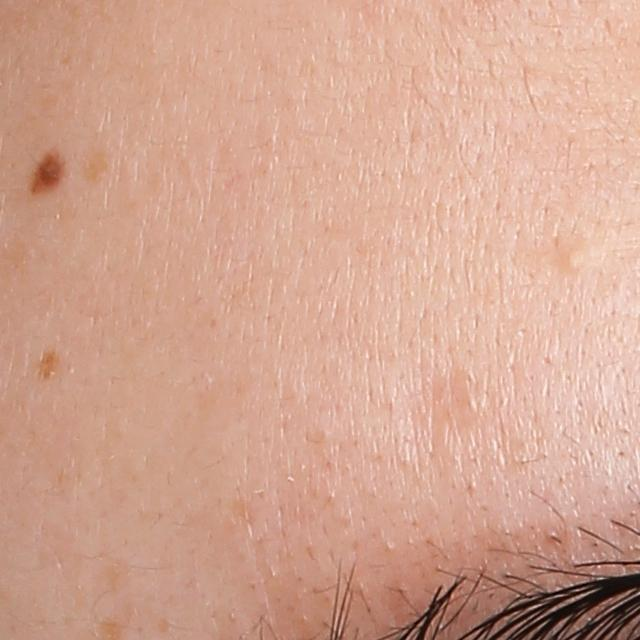comedo: (557, 241, 596, 275)
nevus: (23, 152, 73, 197)
